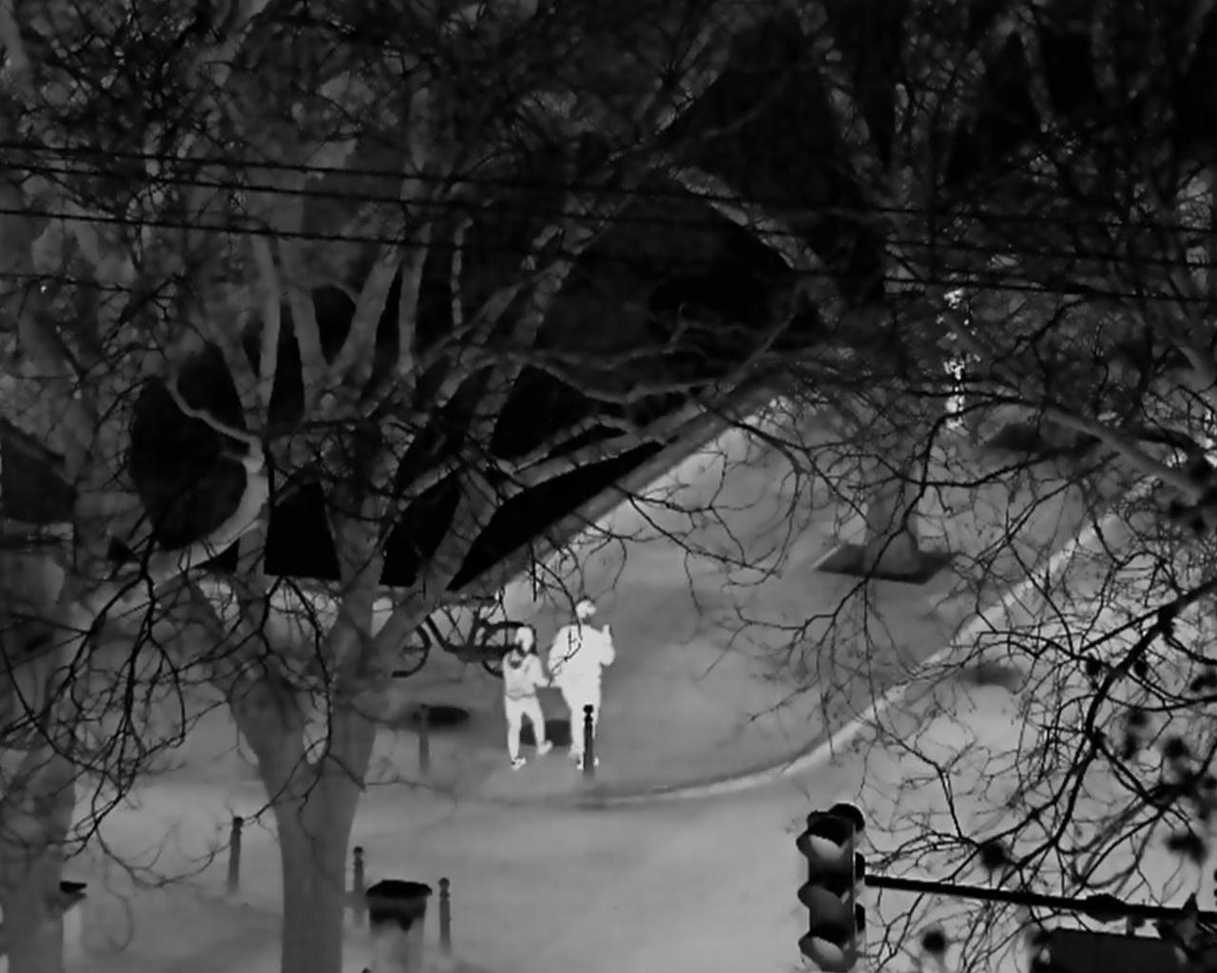person: (547, 596, 618, 771), (501, 624, 554, 771), (937, 274, 976, 433)
